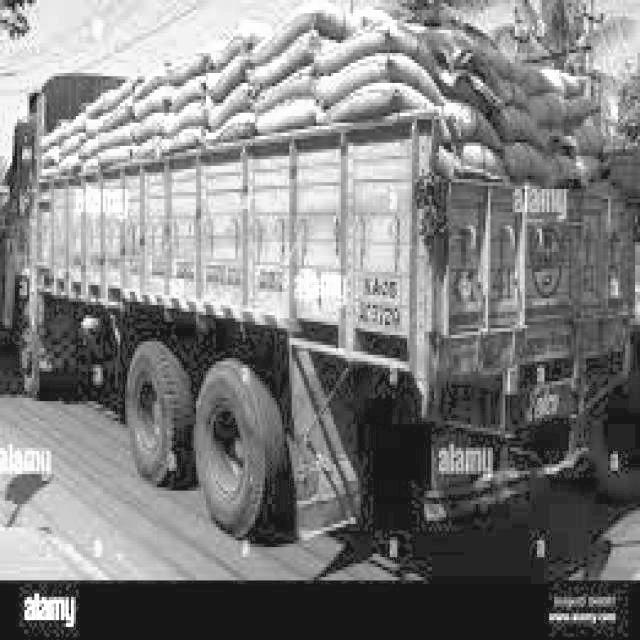HCV: (0, 41, 640, 549), (18, 36, 20, 46)
